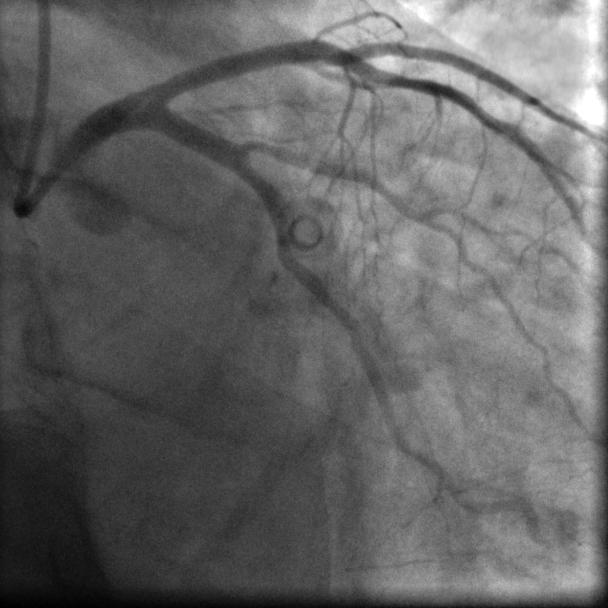Stenosis: (236, 131, 272, 160)
